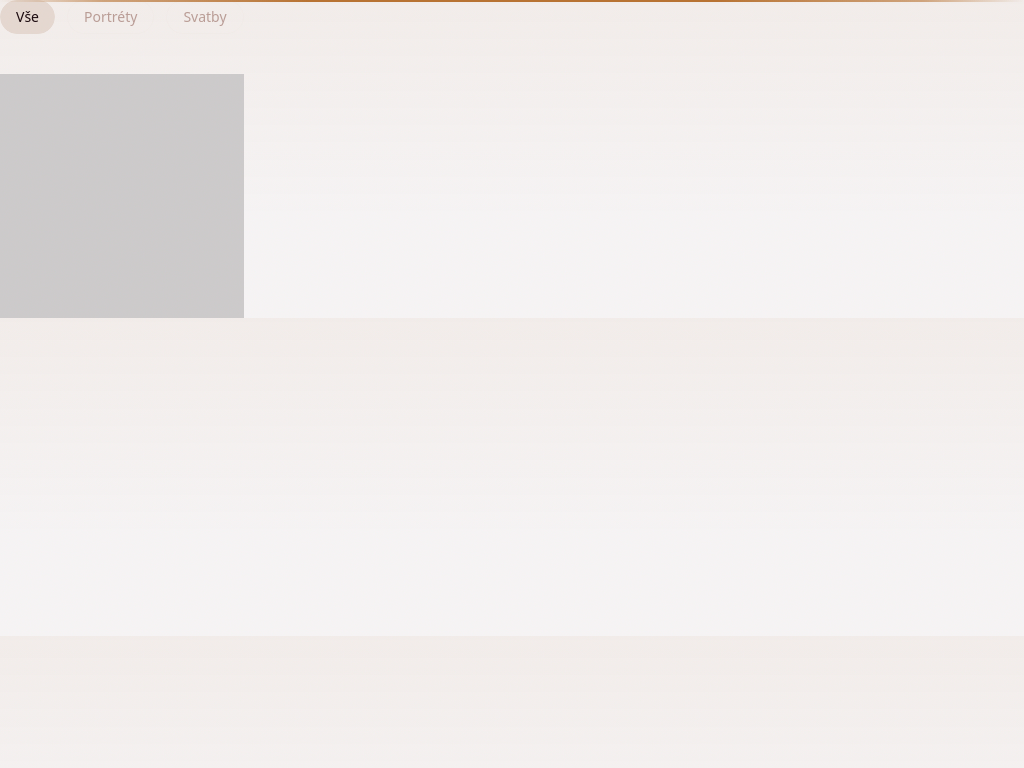
Test case: PortfolioFilter › edge case: filtr kategorie bez fotek zobrazí prázdný stav
Click the button "Svatby" at [205, 17], box [166,0,244,34]
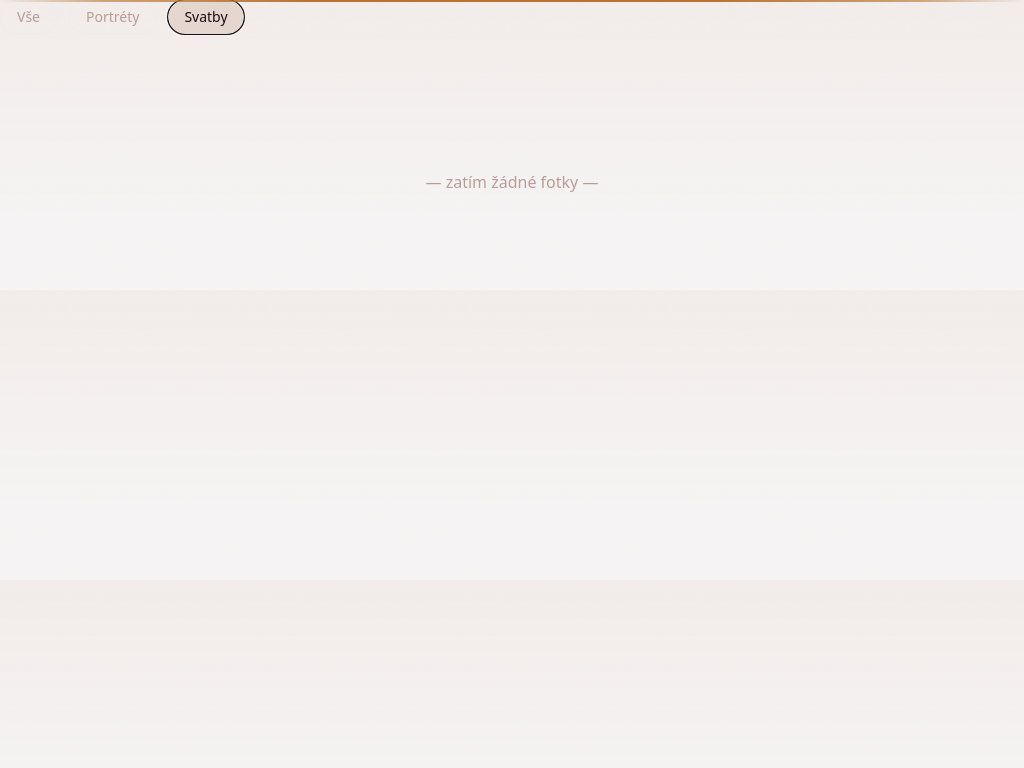
Check: the picture is gone
